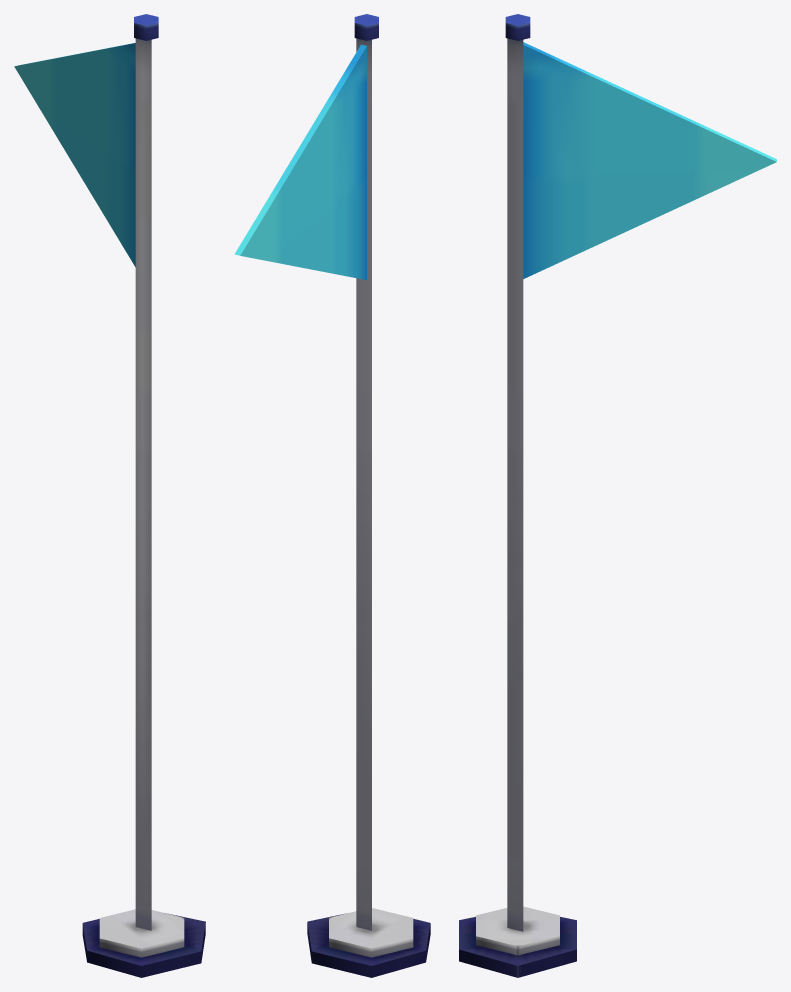
File: my_autumnsports_01_flag_01.glb
3 renders of one model, left to right at view 1: azimuth 30°, elevation 25°; view 2: azimuth 150°, elevation 25°; view 3: azimuth 270°, elevation 25°, orthographic.
Parts seen in each view (by area): view 1: my_autumnsports_01_flag_01; view 2: my_autumnsports_01_flag_01; view 3: my_autumnsports_01_flag_01.
Part boxes in pixels (<box>): my_autumnsports_01_flag_01: <box>14,14,205,977</box>; my_autumnsports_01_flag_01: <box>234,14,430,977</box>; my_autumnsports_01_flag_01: <box>459,14,776,977</box>.
Bounding box in the file's own units: 0.00128 × 0.00953 × 0.00296.
Materials: 1 (1 with a texture image).
